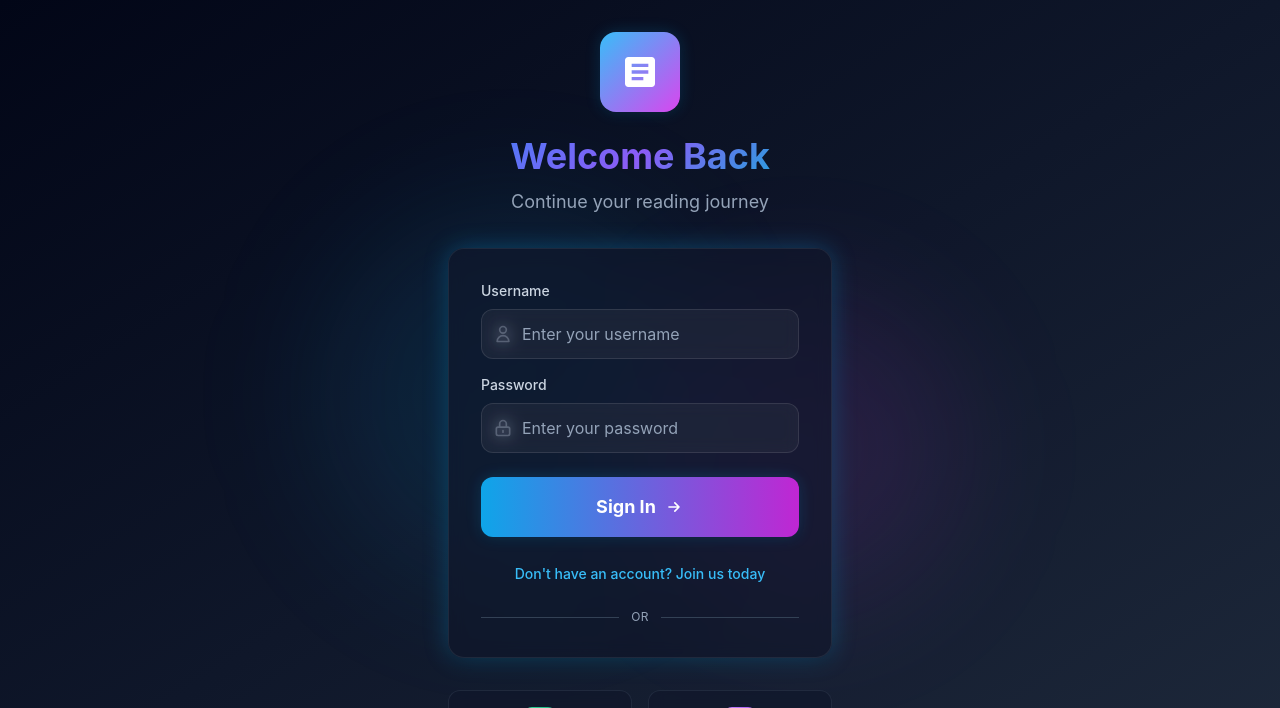
it: LoginPage registration › surfaces the error and stays on the form when registration fails
Click the button "Don't have an account? Join us today". click: x=640, y=574
box: [515, 564, 765, 584]
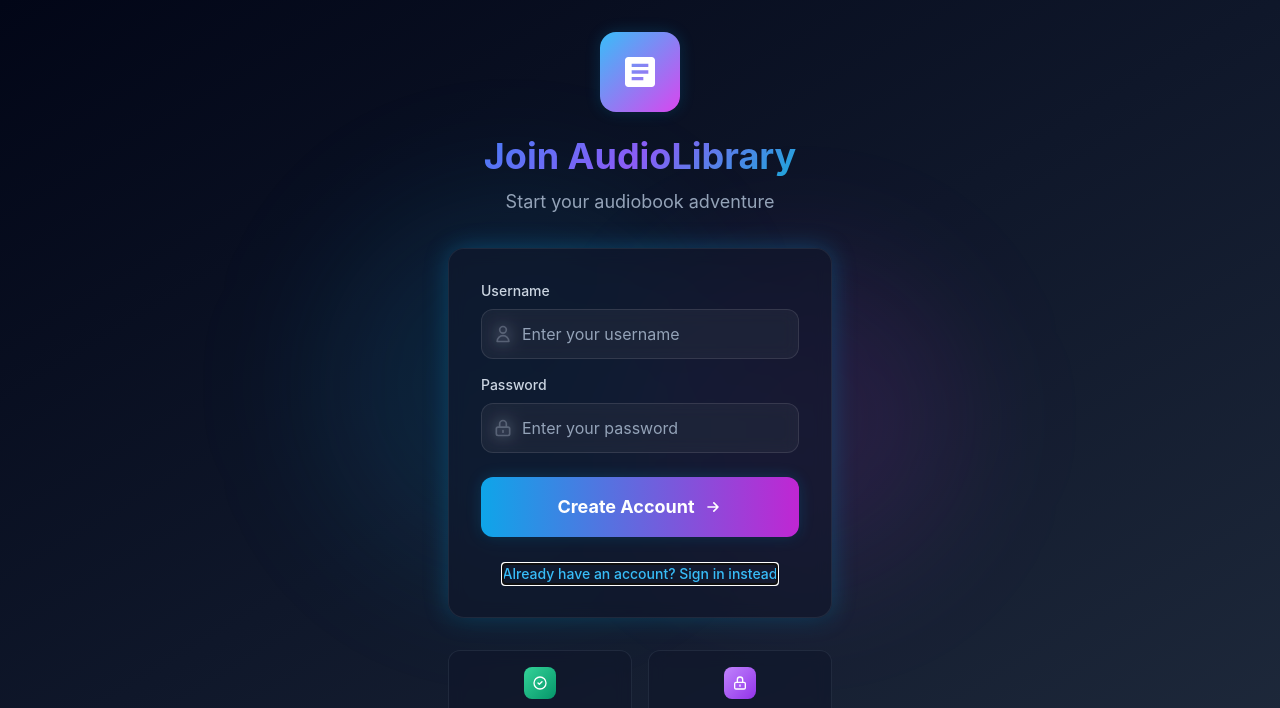
Type "Akshat" into the field with placeholder "Enter your username". click: x=640, y=334
box: [481, 309, 799, 359]
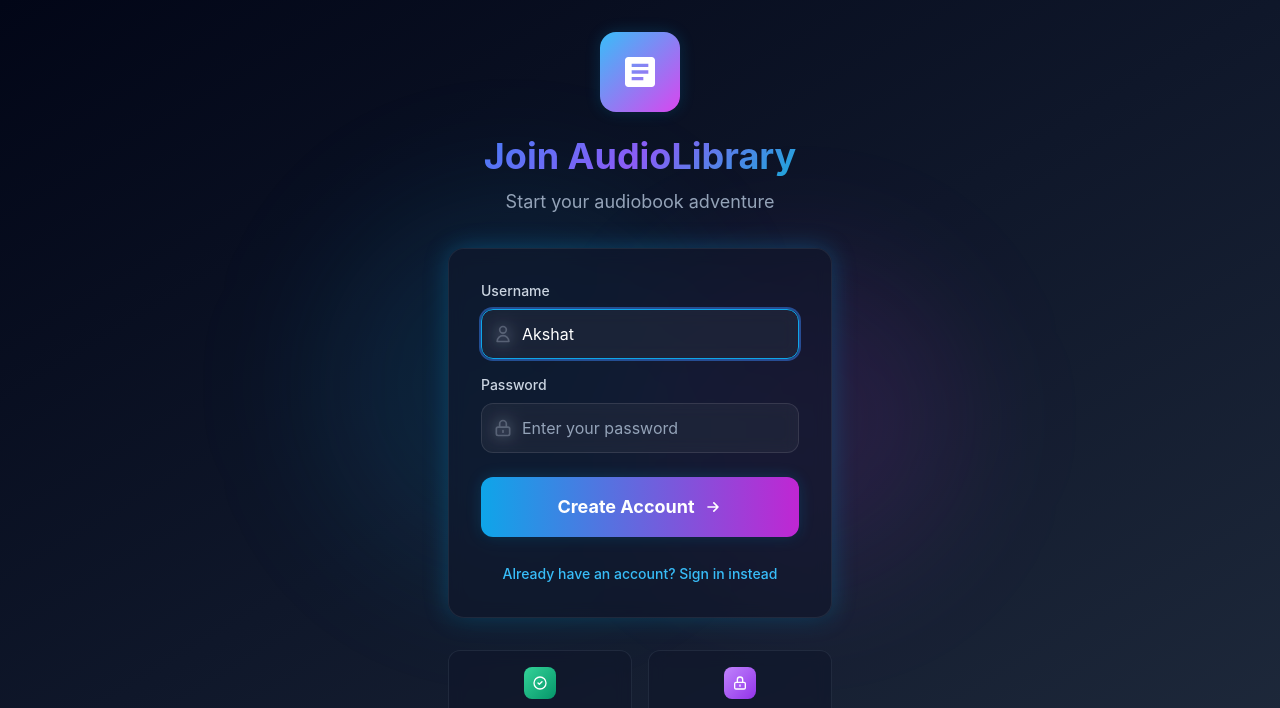
Type "s3cret!" into the password field with placeholder "Enter your password". click: x=640, y=428
box: [481, 403, 799, 453]
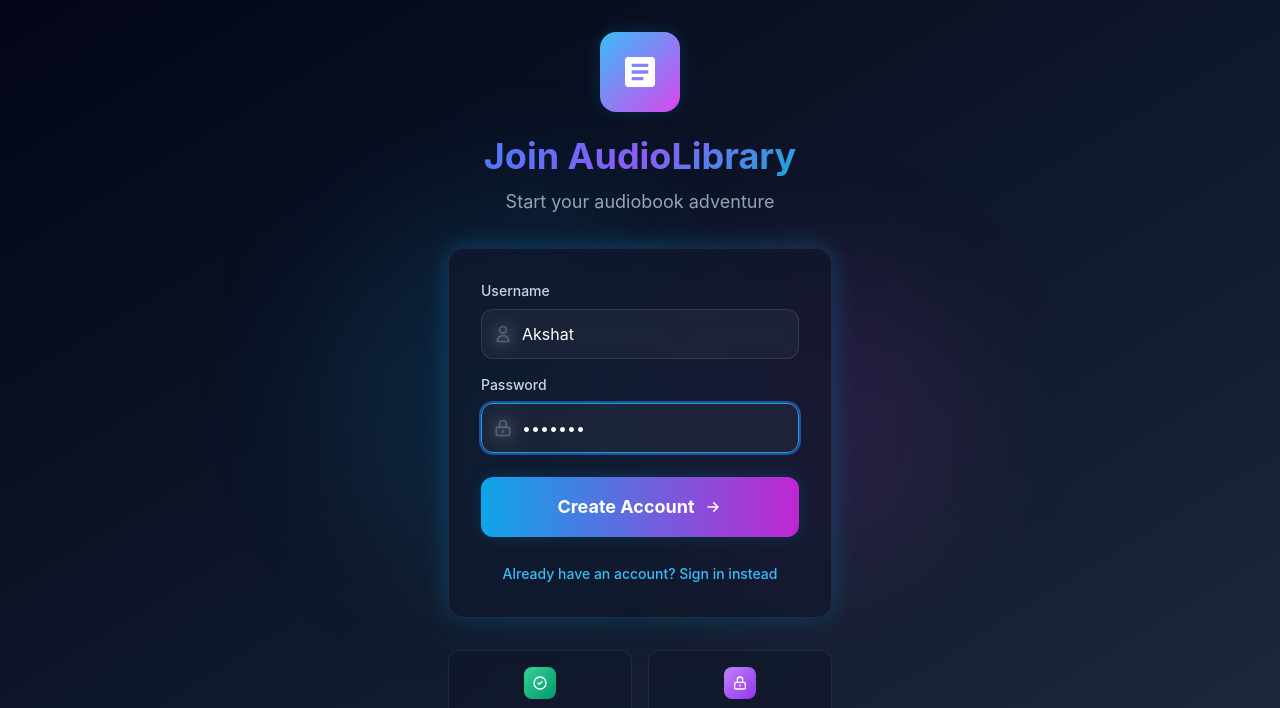
Click the button "Create Account". click: x=640, y=507
box: [481, 477, 799, 537]
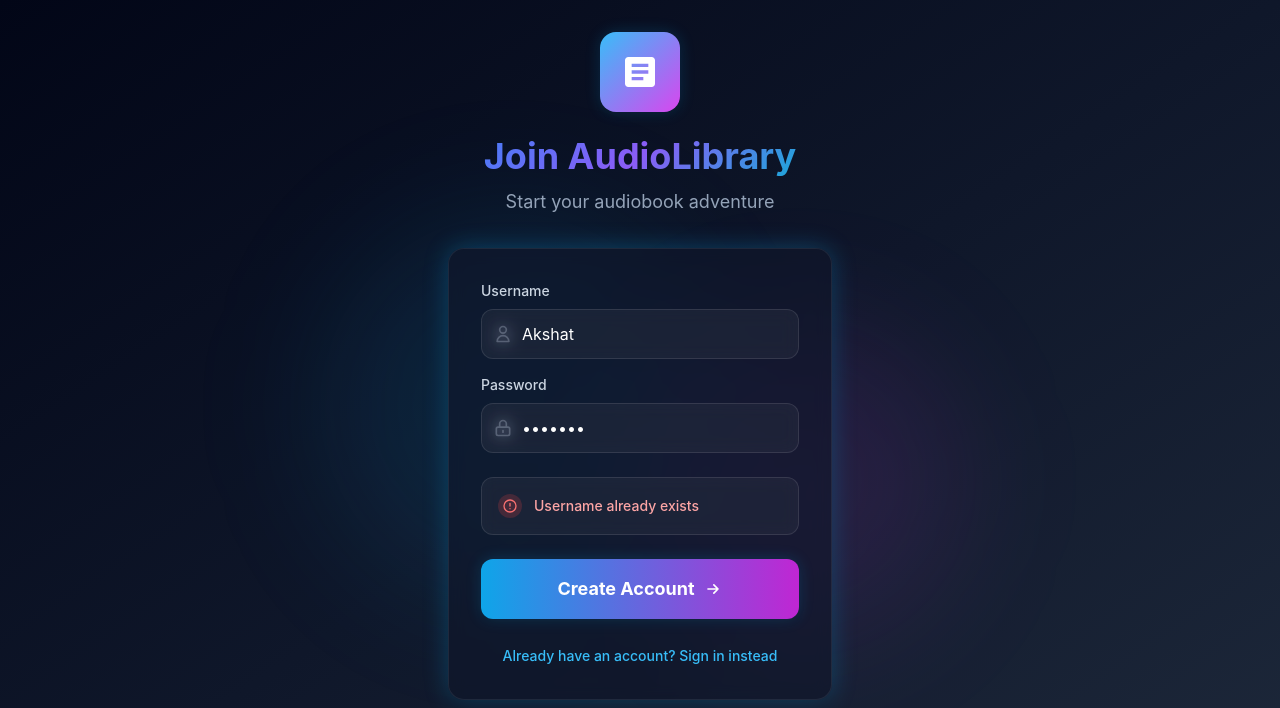
Now the text "Username already exists" is shown, box [534, 496, 699, 516]
